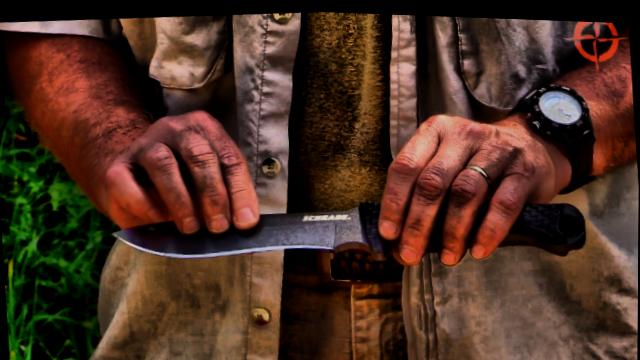knife: (95, 152, 595, 292)
